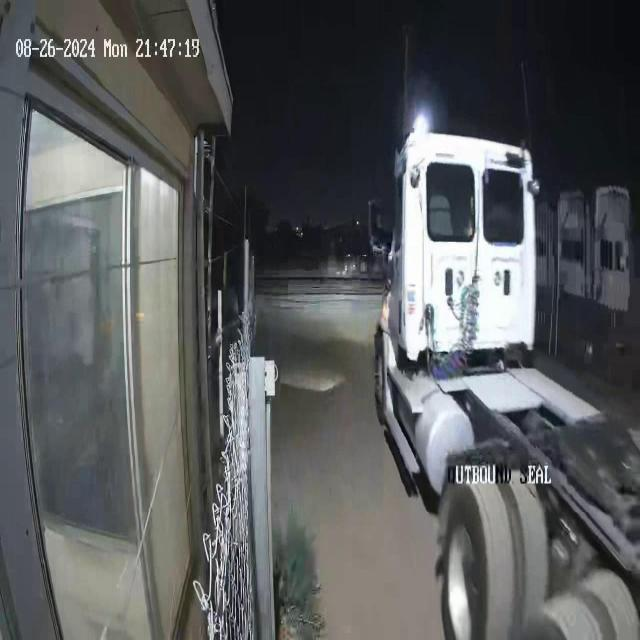TRUCK_OUT: (370, 108, 640, 640)
